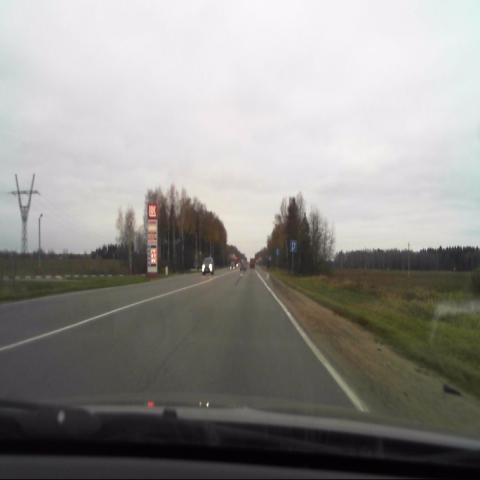5_15_3: (290, 239, 297, 253)
